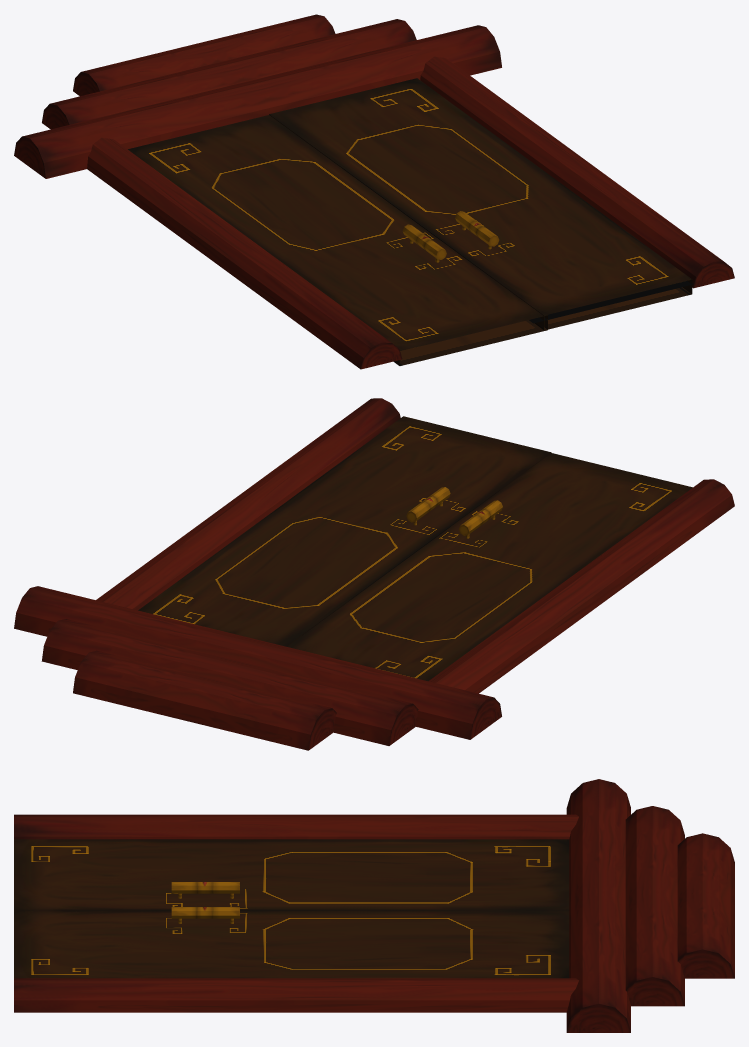
Rendered from door_closed.dae.
The picture shows the model from 3 angles, top to bottom: view 1: azimuth 30°, elevation 25°; view 2: azimuth 150°, elevation 25°; view 3: azimuth 270°, elevation 25°; orthographic projection.
Parts seen in each view (by area): view 1: Cube_009, Cube_015, Cube_012, Cube_013, Cube_014, Plane; view 2: Cube_009, Cube_015, Cube_012, Cube_014, Cube_013; view 3: Cube_009, Cube_015, Cube_012, Cube_013, Cube_014.
Part boxes in pixels (box(x1,y1,x2,y2)): Cube_009: box(128, 78, 692, 365); Cube_015: box(87, 56, 734, 369); Cube_012: box(14, 25, 501, 178); Cube_013: box(42, 19, 416, 129); Cube_014: box(73, 14, 335, 96); Plane: box(529, 281, 693, 323); Cube_009: box(138, 416, 692, 681); Cube_015: box(96, 398, 734, 693); Cube_012: box(14, 586, 501, 739); Cube_014: box(73, 650, 336, 750); Cube_013: box(41, 619, 418, 745); Cube_009: box(14, 839, 569, 978); Cube_015: box(14, 814, 578, 1012); Cube_012: box(566, 779, 630, 1032); Cube_013: box(625, 806, 684, 1006); Cube_014: box(677, 833, 734, 978).
Size of the model in its own units: 5.54 by 7.52 by 0.4098.
2 materials, 1 textured.
